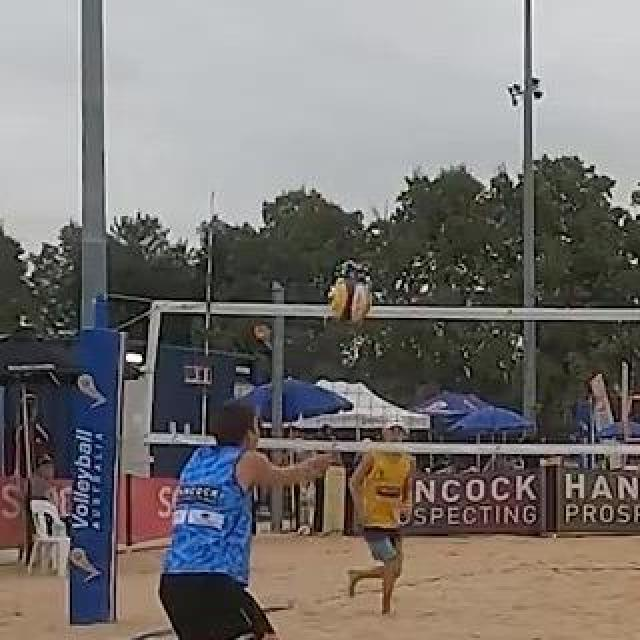volleyball: (330, 279, 372, 321)
